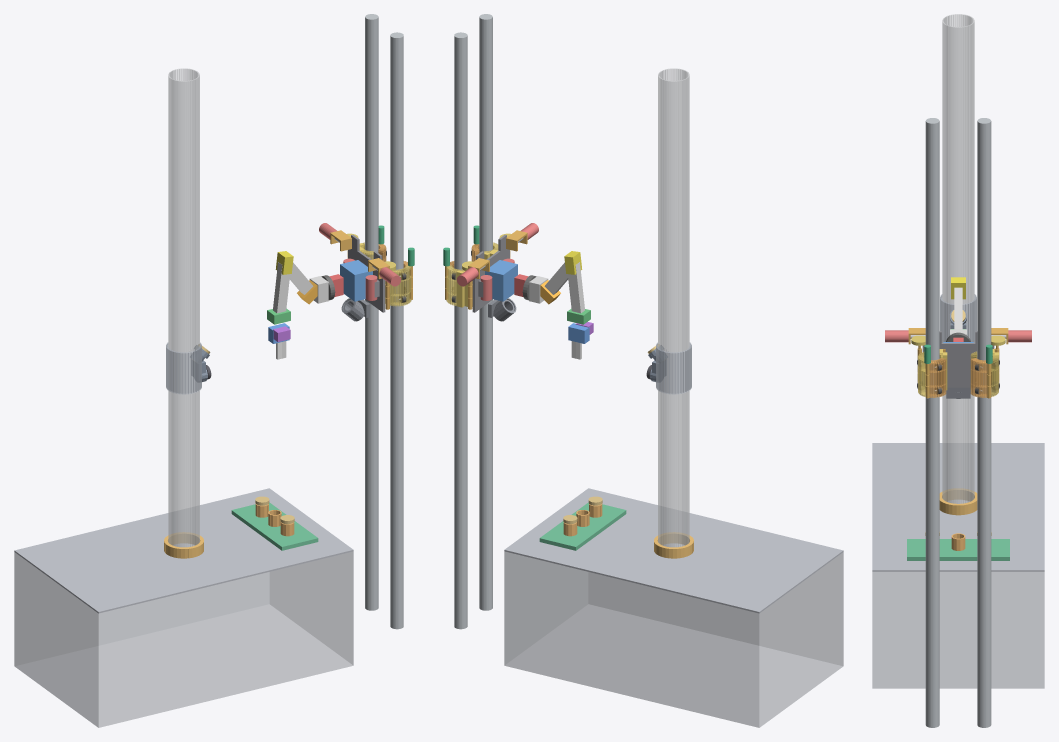
Rendered from transplant-seedling-step4-seat-v3.glb.
The picture shows the model from 3 angles, left to right: view 1: azimuth 30°, elevation 25°; view 2: azimuth 150°, elevation 25°; view 3: azimuth 270°, elevation 25°; orthographic projection. The views are drawn at different scales.
Bounding box in the file's own units: 0.94 × 1.55 × 0.4.
